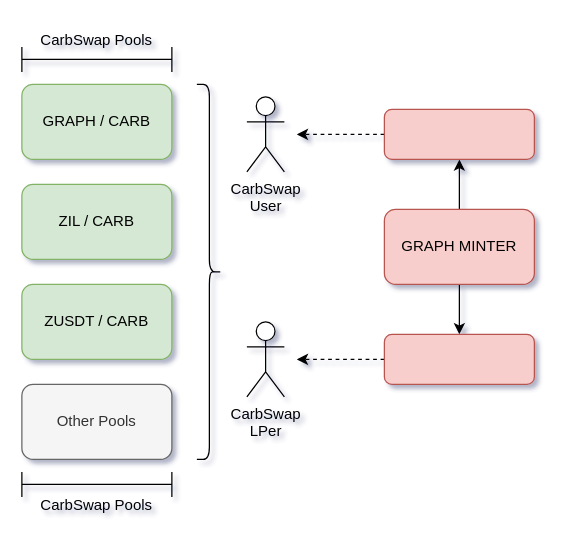
Some shapes in this 564 by 553 pixel diagram are drawn without their labels. The shapes that lost their labels are listed below. From the top down, each one's centre as x and y in pixels, then its label:
At (x=458, y=133): "TXN Rewards".
At (x=458, y=358): "LP Rewards".
